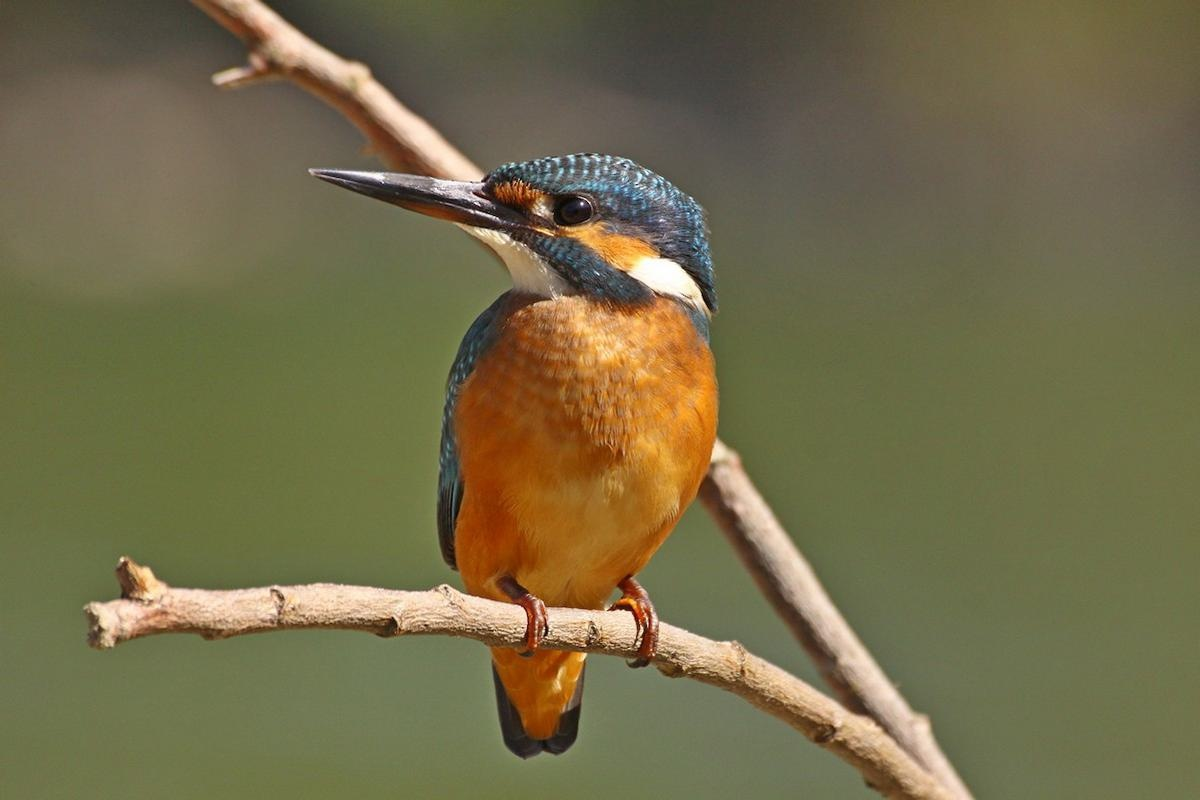kingfisher: (317, 120, 702, 736)
